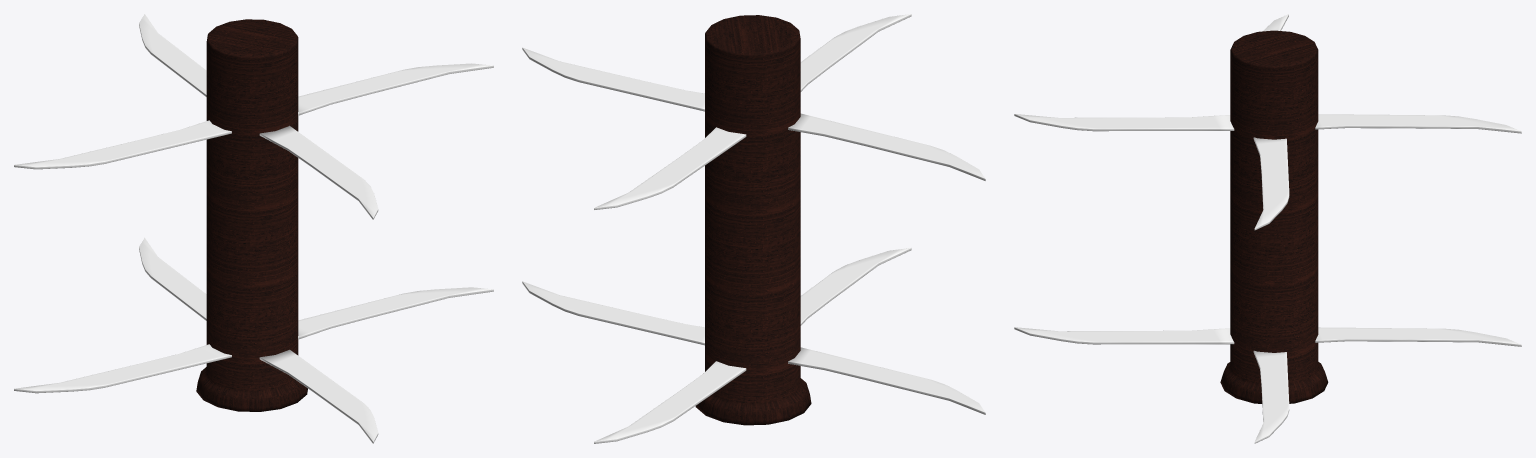
Rendered from Pole_Blades 1.fbx.
3 renders of one model, left to right at view 1: azimuth 30°, elevation 25°; view 2: azimuth 150°, elevation 25°; view 3: azimuth 270°, elevation 25°, orthographic. The views are drawn at different scales.
Parts seen in each view (by area): view 1: True_Wodden_Pole_SM, Blade_Sm.012, Blade_Sm.015, Blade_Sm.014, Blade_Sm.017, Blade_Sm.013, Blade_Sm.016, Blade_Sm.003, Blade_Sm.011; view 2: True_Wodden_Pole_SM, Blade_Sm.012, Blade_Sm.015, Blade_Sm.014, Blade_Sm.017, Blade_Sm.011, Blade_Sm.003, Blade_Sm.016, Blade_Sm.013; view 3: True_Wodden_Pole_SM, Blade_Sm.013, Blade_Sm.016, Blade_Sm.003, Blade_Sm.011, Blade_Sm.017, Blade_Sm.014.
Boxes of the visible parts, left/top/right/bottom form: True_Wodden_Pole_SM: left=196, top=19, right=307, bottom=411; Blade_Sm.012: left=14, top=344, right=231, bottom=393; Blade_Sm.015: left=14, top=120, right=231, bottom=169; Blade_Sm.014: left=298, top=287, right=493, bottom=339; Blade_Sm.017: left=298, top=63, right=493, bottom=115; Blade_Sm.013: left=259, top=349, right=378, bottom=443; Blade_Sm.016: left=259, top=125, right=378, bottom=219; Blade_Sm.003: left=139, top=14, right=206, bottom=96; Blade_Sm.011: left=139, top=238, right=206, bottom=320; True_Wodden_Pole_SM: left=695, top=15, right=811, bottom=425; Blade_Sm.012: left=788, top=347, right=985, bottom=414; Blade_Sm.015: left=788, top=113, right=985, bottom=180; Blade_Sm.014: left=522, top=281, right=704, bottom=345; Blade_Sm.017: left=522, top=47, right=704, bottom=111; Blade_Sm.011: left=594, top=361, right=746, bottom=443; Blade_Sm.003: left=594, top=127, right=746, bottom=209; Blade_Sm.016: left=800, top=14, right=911, bottom=91; Blade_Sm.013: left=800, top=248, right=911, bottom=325; True_Wodden_Pole_SM: left=1220, top=30, right=1328, bottom=403; Blade_Sm.013: left=1014, top=327, right=1234, bottom=344; Blade_Sm.016: left=1014, top=114, right=1234, bottom=131; Blade_Sm.003: left=1315, top=114, right=1521, bottom=133; Blade_Sm.011: left=1315, top=327, right=1521, bottom=346; Blade_Sm.017: left=1253, top=137, right=1289, bottom=230; Blade_Sm.014: left=1253, top=350, right=1289, bottom=443.
Bounding box in the file's own units: 281 × 281 × 204.
2 materials, 2 textured.
